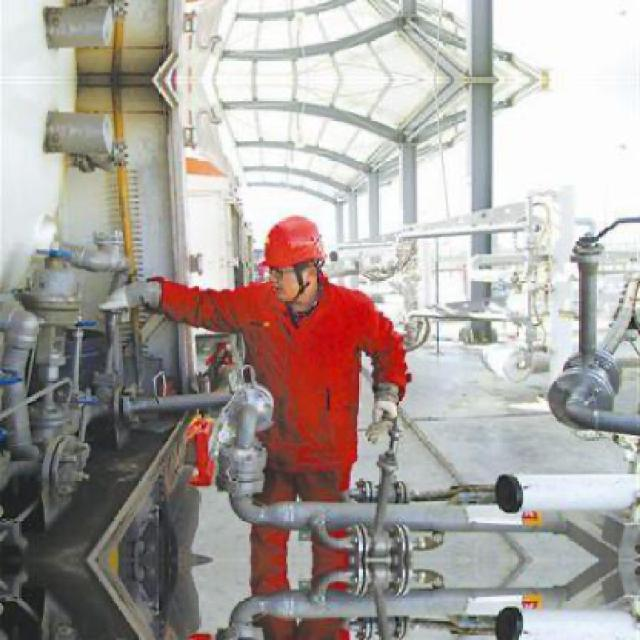con casco: (254, 193, 349, 323)
